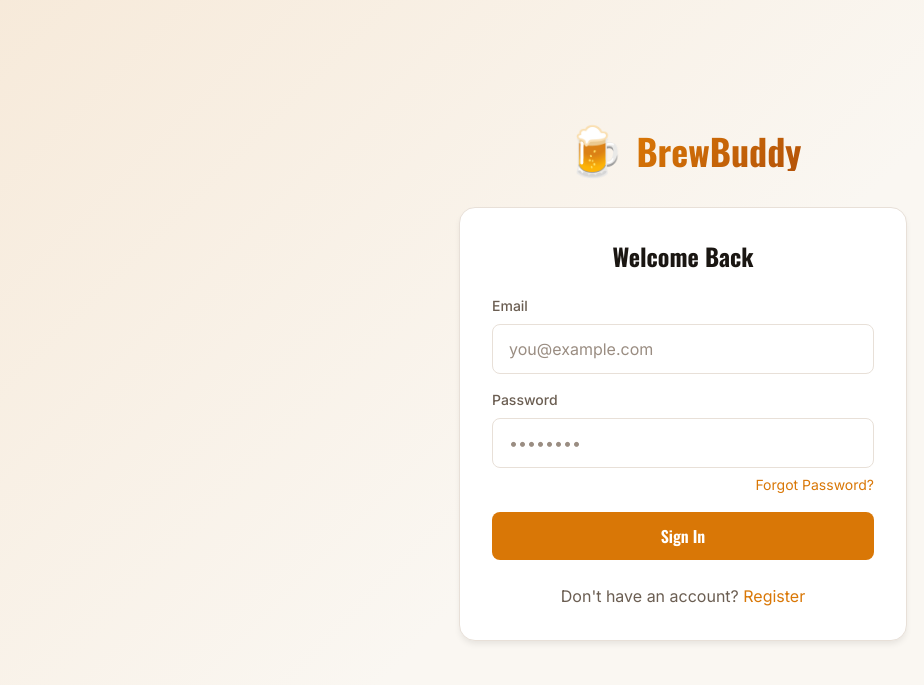
Test: Login Page › displays required field errors when form is submitted empty
Click the button "Sign In".
click(683, 536)  # box left=492, top=512, right=874, bottom=560
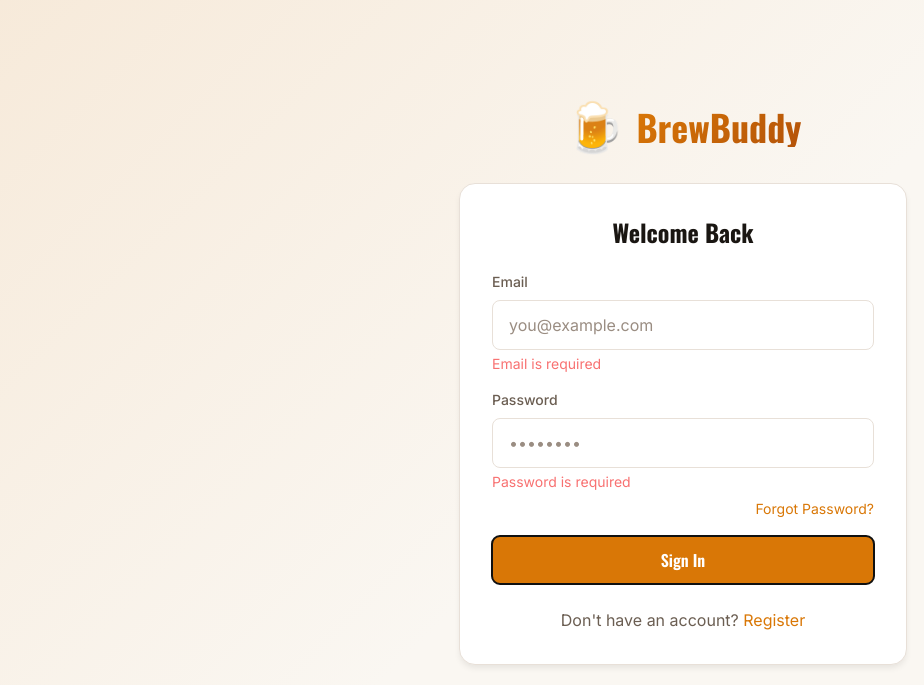
Expected: the text "Email is required" is shown, left=492, top=355, right=601, bottom=372
Expected: the text "Password is required" is shown, left=492, top=473, right=631, bottom=490
